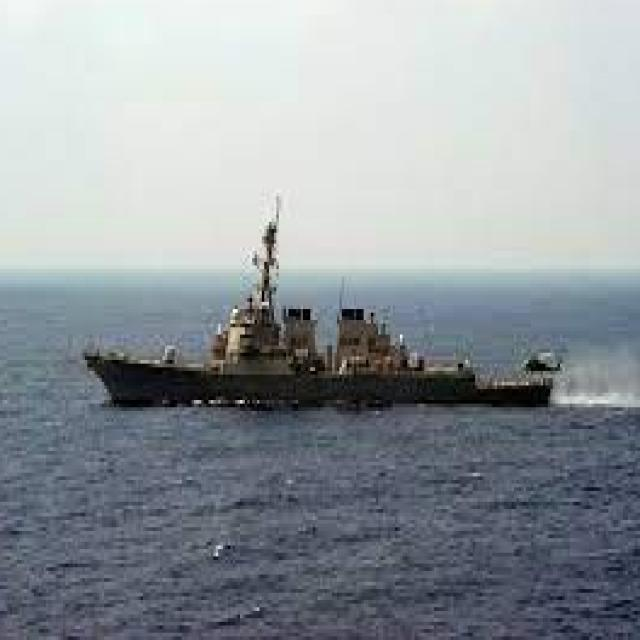navalvessels: (83, 176, 570, 432)
